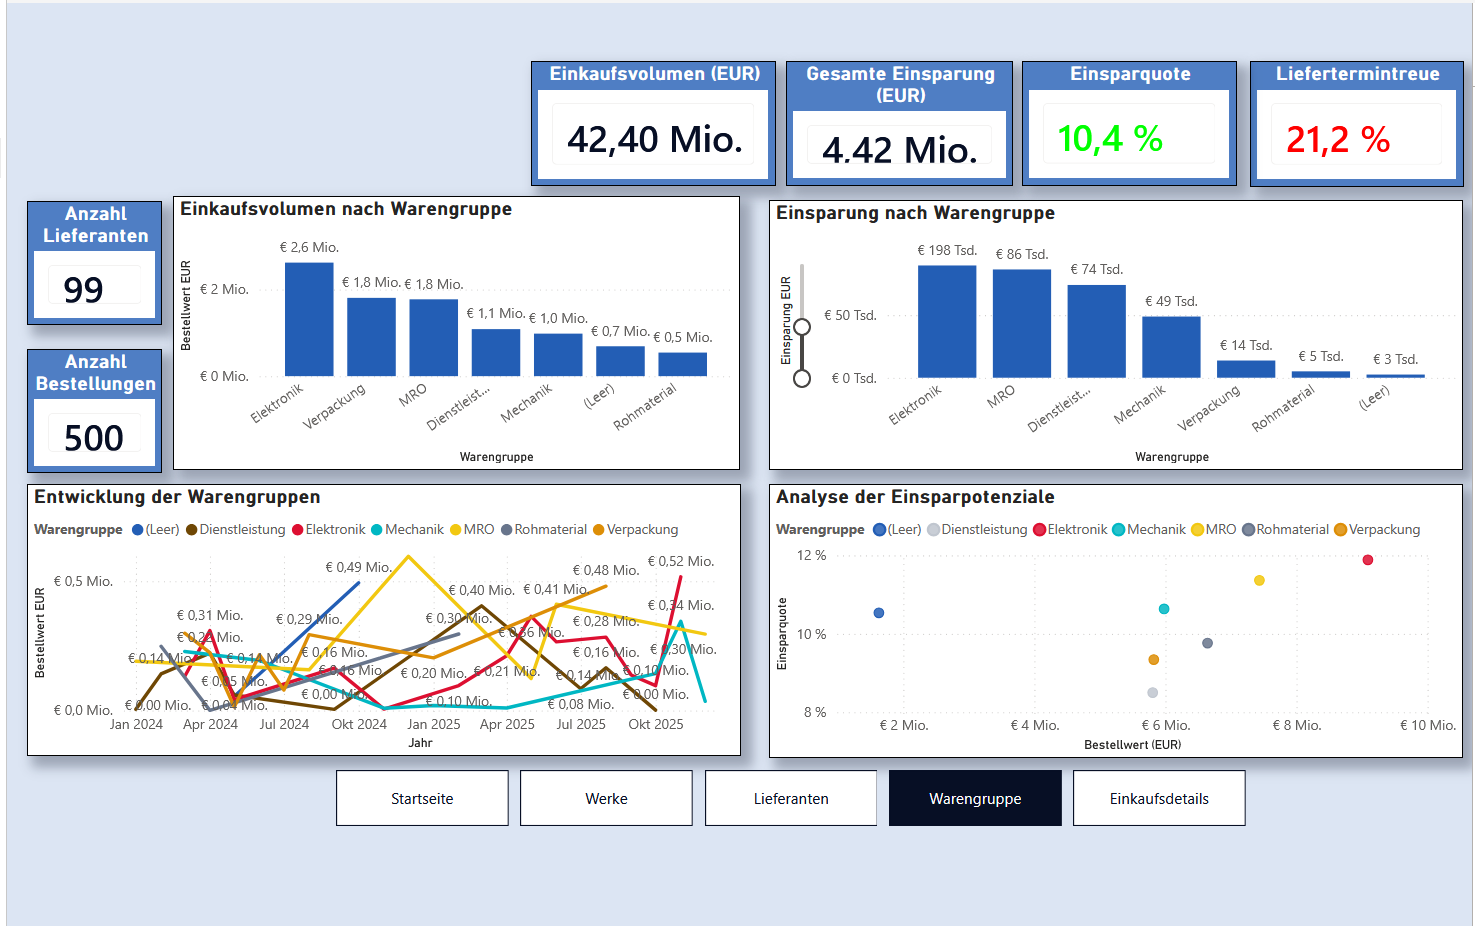

What the dashboard file says about the page in this screenshot:
{"tool":"powerbi","page":{"name":"Warengruppe","canvas":[1280,720],"ordinal":3},"visuals":[{"type":"cardVisual","title":"Liefertermintreue","fields":{"Data":["Einkaufsdaten.Liefertermintreue"]},"box":[1086.4,50.6,186.7,109.9],"z":1000},{"type":"cardVisual","title":"Einkaufsvolumen (EUR)","fields":{"Data":["Einkaufsdaten.Gesamt Einkaufsvolumen EUR"]},"box":[458.2,50.9,213.6,109.1],"z":2000},{"type":"cardVisual","title":"Gesamte Einsparung (EUR)","fields":{"Data":["Einkaufsdaten.Gesamte Einsparung"]},"box":[680.9,50.6,198.4,108.9],"z":3000},{"type":"cardVisual","title":"Einsparquote","fields":{"Data":["Einkaufsdaten.Einsparquote"]},"box":[887.1,50.6,187.7,108.9],"z":4000},{"type":"cardVisual","title":"Anzahl Bestellungen","fields":{"Data":["Einkaufsdaten.Anzahl Bestellungen"]},"box":[17.8,301.9,118,108.4],"z":5000},{"type":"cardVisual","title":"Anzahl Lieferanten","fields":{"Data":["Einkaufsdaten.Anzahl Lieferanten"]},"box":[17.8,172.9,118,108.4],"z":6000},{"type":"columnChart","title":"Einkaufsvolumen nach Warengruppe","fields":{"Category":["Einkaufsdaten.Warengruppe"],"Y":["Sum(Einkaufsdaten.Bestellwert Euro)"]},"box":[145.3,168.8,495.3,239.1],"z":7000},{"type":"columnChart","title":"Einsparung nach Warengruppe","fields":{"Category":["Einkaufsdaten.Warengruppe"],"Y":["Sum(Einkaufsdaten.Einsparung EUR)"]},"box":[665.6,171.9,606.2,235.9],"z":8000},{"type":"lineChart","title":"Entwicklung der Warengruppen","fields":{"Category":["Einkaufsdaten.Bestelldatum.Variation.Datumshierarchie.Jahr","Einkaufsdaten.Bestelldatum.Variation.Datumshierarchie.Monat"],"Series":["Einkaufsdaten.Warengruppe"],"Y":["Sum(Einkaufsdaten.Bestellwert Euro)"]},"box":[17.2,420.3,623.4,237.5],"z":9000},{"type":"scatterChart","title":"Analyse der Einsparpotenziale","fields":{"Category":["Einkaufsdaten.Warengruppe"],"Series":["Einkaufsdaten.Warengruppe"],"X":["Sum(Einkaufsdaten.Bestellwert Euro)"],"Y":["Einkaufsdaten.Einsparquote"]},"box":[665.6,420.3,606.2,239.1],"z":10000},{"type":"pageNavigator","box":[287.4,670.2,799.9,49.8],"z":11000}]}

Visuals, with their boxes in screenshot pixels (x1, y1, x2, y2):
"Liefertermintreue" cardVisual: Rect(1246, 61, 1458, 186)
"Einkaufsvolumen (EUR)" cardVisual: Rect(532, 62, 775, 186)
"Gesamte Einsparung (EUR)" cardVisual: Rect(785, 61, 1011, 185)
"Einsparquote" cardVisual: Rect(1020, 61, 1233, 185)
"Anzahl Bestellungen" cardVisual: Rect(32, 347, 166, 470)
"Anzahl Lieferanten" cardVisual: Rect(32, 200, 166, 324)
"Einkaufsvolumen nach Warengruppe" columnChart: Rect(177, 196, 740, 467)
"Einsparung nach Warengruppe" columnChart: Rect(768, 199, 1457, 467)
"Entwicklung der Warengruppen" lineChart: Rect(31, 481, 740, 751)
"Analyse der Einsparpotenziale" scatterChart: Rect(768, 481, 1457, 753)
pageNavigator: Rect(338, 765, 1247, 822)
